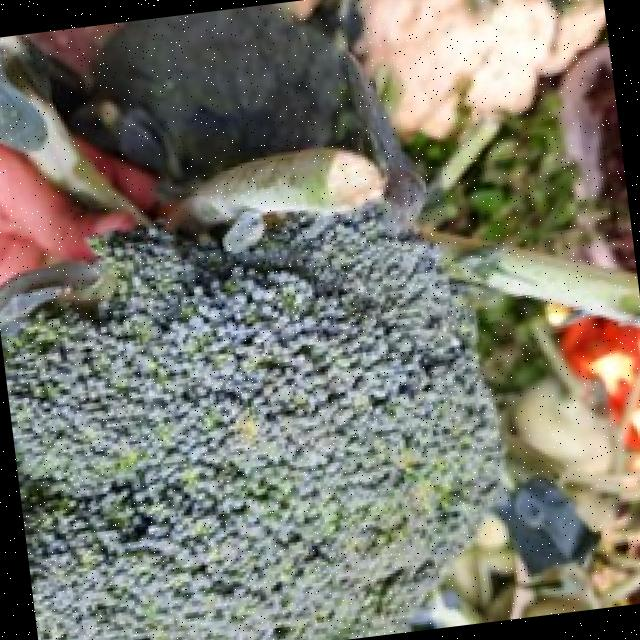Broccoli: (1, 209, 497, 640), (5, 209, 497, 640)
